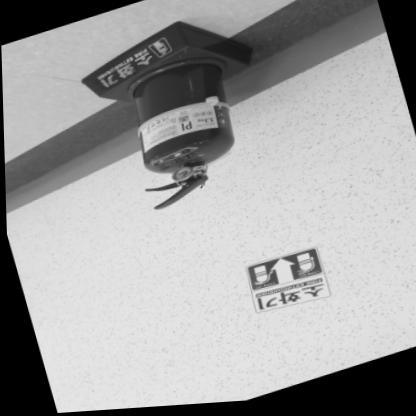FE: (72, 1, 287, 228)
